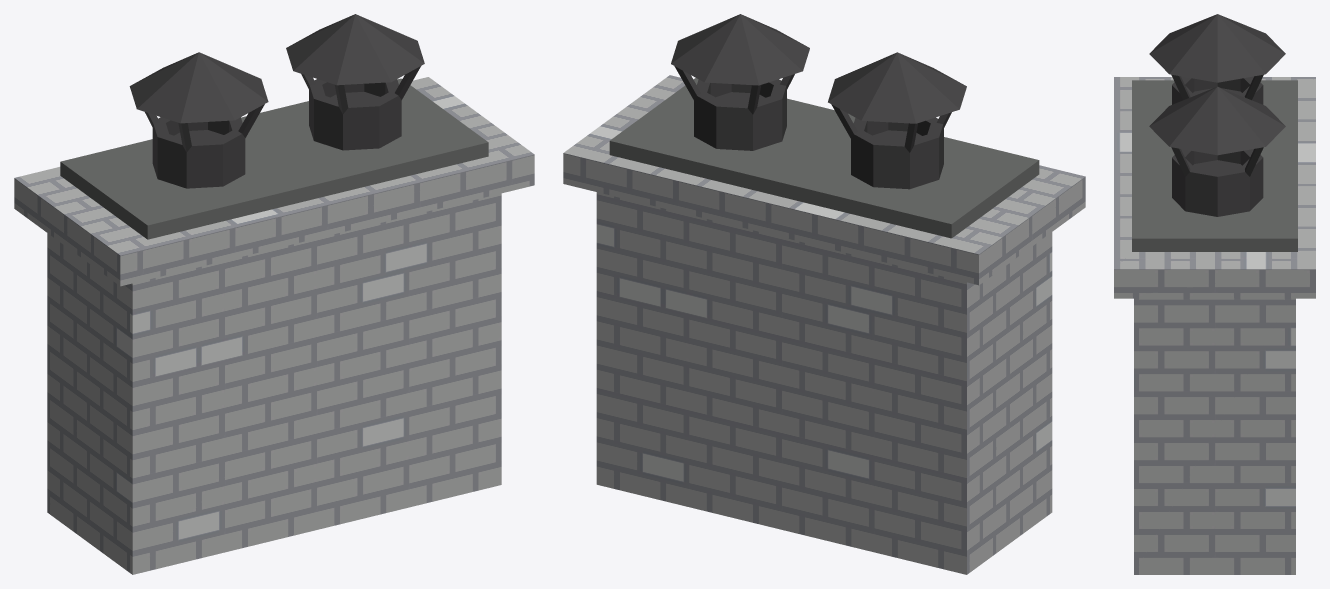
File: SM_chimney_02.gltf
3 renders of one model, left to right at view 1: azimuth 30°, elevation 25°; view 2: azimuth 150°, elevation 25°; view 3: azimuth 270°, elevation 25°, orthographic. The views are drawn at different scales.
Visible parts, largest first — view 1: SM_chimney_02; view 2: SM_chimney_02; view 3: SM_chimney_02.
Part boxes in pixels (box(x1,y1,x2,y2)): SM_chimney_02: box(14, 14, 534, 574); SM_chimney_02: box(563, 14, 1085, 574); SM_chimney_02: box(1114, 14, 1315, 574).
Size of the model in its own units: 2.25 by 2.4 by 0.9962.
2 materials, 2 textured.
